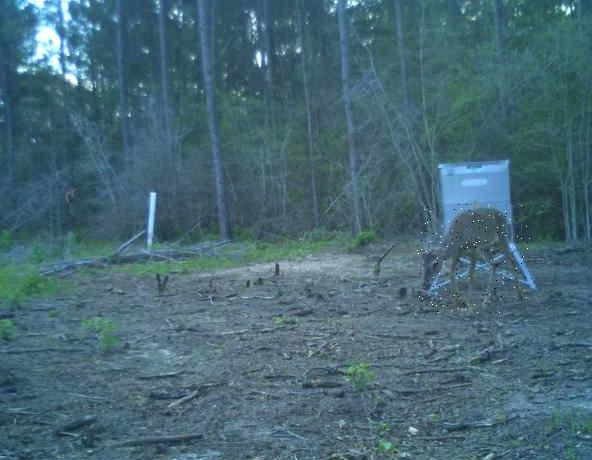Deer: (415, 204, 529, 313)
